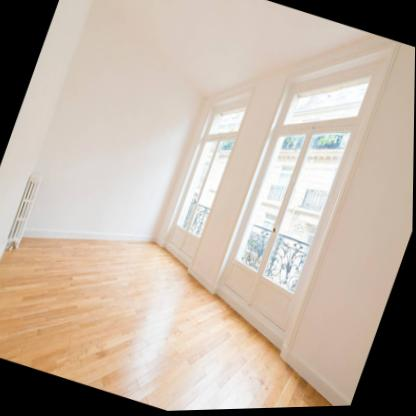Window: (211, 43, 395, 355), (162, 92, 256, 273)
Wooden floor: (0, 239, 334, 412)
